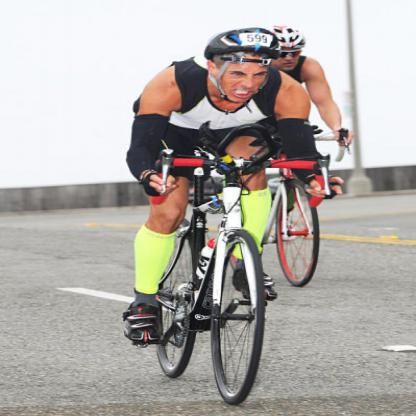With Helmet: (194, 22, 294, 103), (261, 18, 309, 70)
